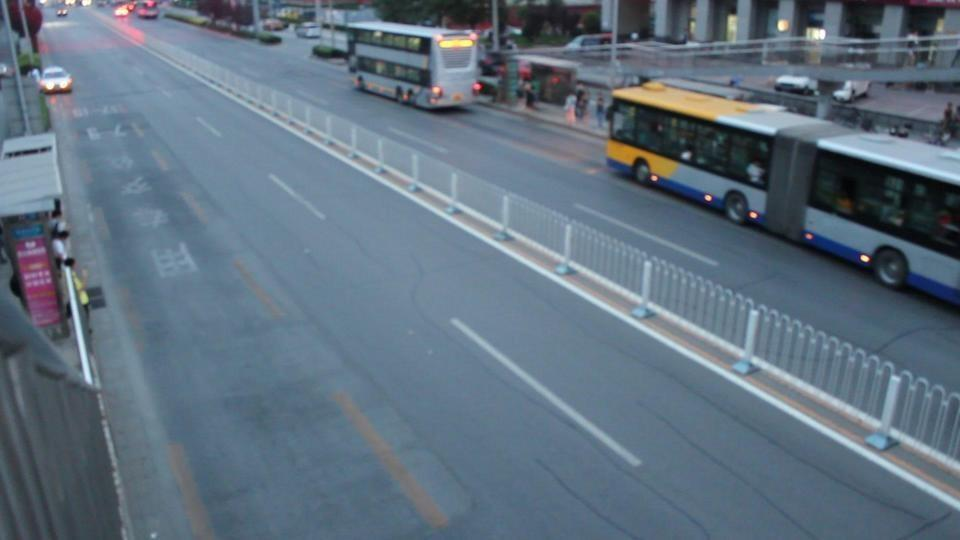car: (560, 33, 612, 54), (36, 66, 74, 94), (772, 74, 819, 96), (831, 80, 870, 103), (134, 0, 159, 20), (296, 23, 322, 39), (112, 1, 136, 18), (262, 18, 285, 30)
